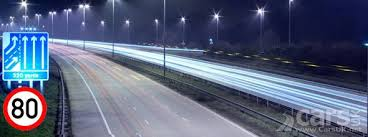Speed_limit_80km: (3, 86, 47, 131)
